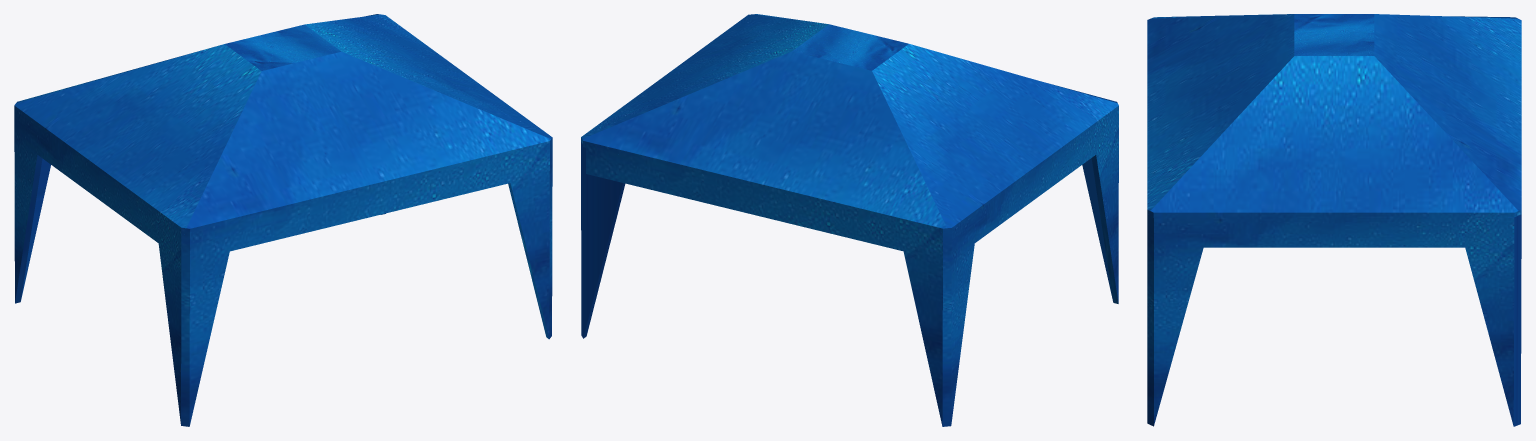
File: Carpamonoblock.fbx
The picture shows the model from 3 angles, left to right: view 1: azimuth 30°, elevation 25°; view 2: azimuth 150°, elevation 25°; view 3: azimuth 270°, elevation 25°; orthographic projection. The views are drawn at different scales.
Parts seen in each view (by area): view 1: Cube.008, Cube.003, Cube.005, Cube.002, Cube.007, Cube; view 2: Cube.008, Cube.004, Cube, Cube.001, Cube.003, Cube.007; view 3: Cube.008, Cube.006, Cube.001, Cube.002.
Boxes of the visible parts, box(x1,y1,x2,y2) form: Cube.008: box(14, 14, 552, 234); Cube.003: box(155, 213, 236, 426); Cube.005: box(192, 158, 510, 260); Cube.002: box(504, 143, 552, 339); Cube.007: box(15, 116, 158, 242); Cube: box(14, 112, 50, 303); Cube.008: box(581, 14, 1118, 234); Cube.004: box(586, 146, 903, 250); Cube: box(897, 215, 978, 426); Cube.001: box(581, 141, 625, 338); Cube.003: box(1082, 110, 1118, 303); Cube.007: box(953, 131, 1095, 258); Cube.008: box(1147, 14, 1521, 219); Cube.006: box(1156, 219, 1464, 247); Cube.001: box(1457, 214, 1521, 426); Cube.002: box(1147, 214, 1211, 426).
Size of the model in its own units: 399 by 279 by 323.
